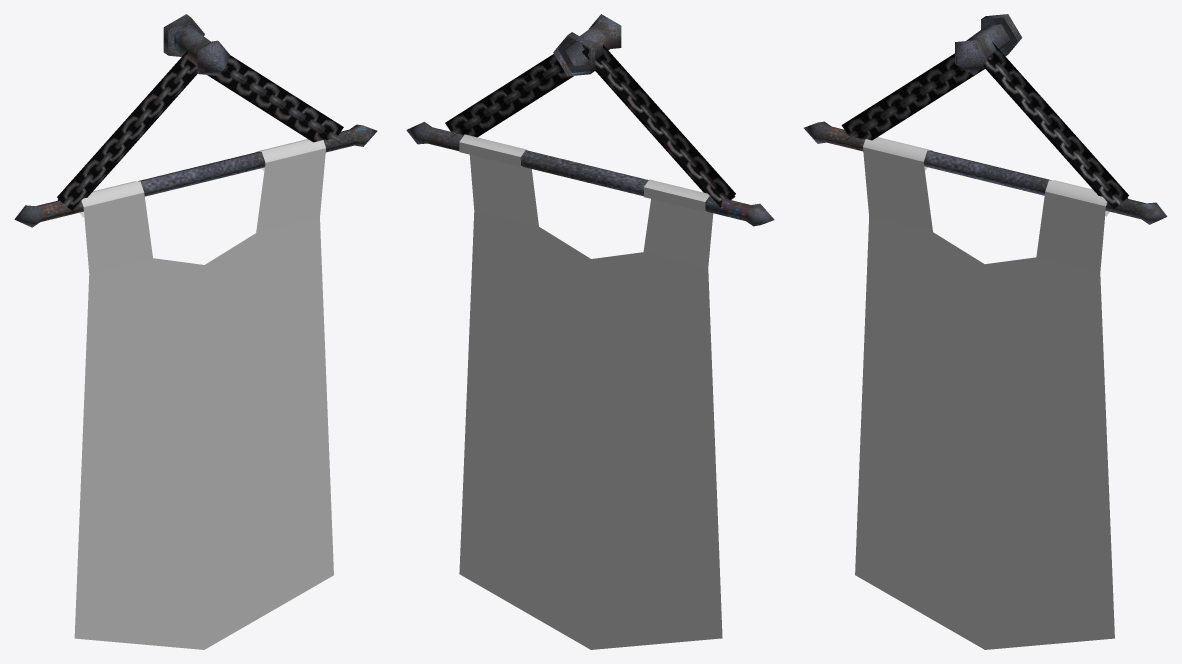
The model's file is Banner_1.FBX.
The picture shows the model from 3 angles, left to right: view 1: azimuth 30°, elevation 25°; view 2: azimuth 150°, elevation 25°; view 3: azimuth 330°, elevation 25°; orthographic projection.
Visible parts, largest first — view 1: Object15; view 2: Object15; view 3: Object15.
Part boxes in pixels (left/top/right/bottom): Object15: left=14, top=14, right=377, bottom=649; Object15: left=406, top=14, right=774, bottom=649; Object15: left=804, top=14, right=1167, bottom=649.
Bounding box in the file's own units: 24.4 × 39.79 × 5.2.
